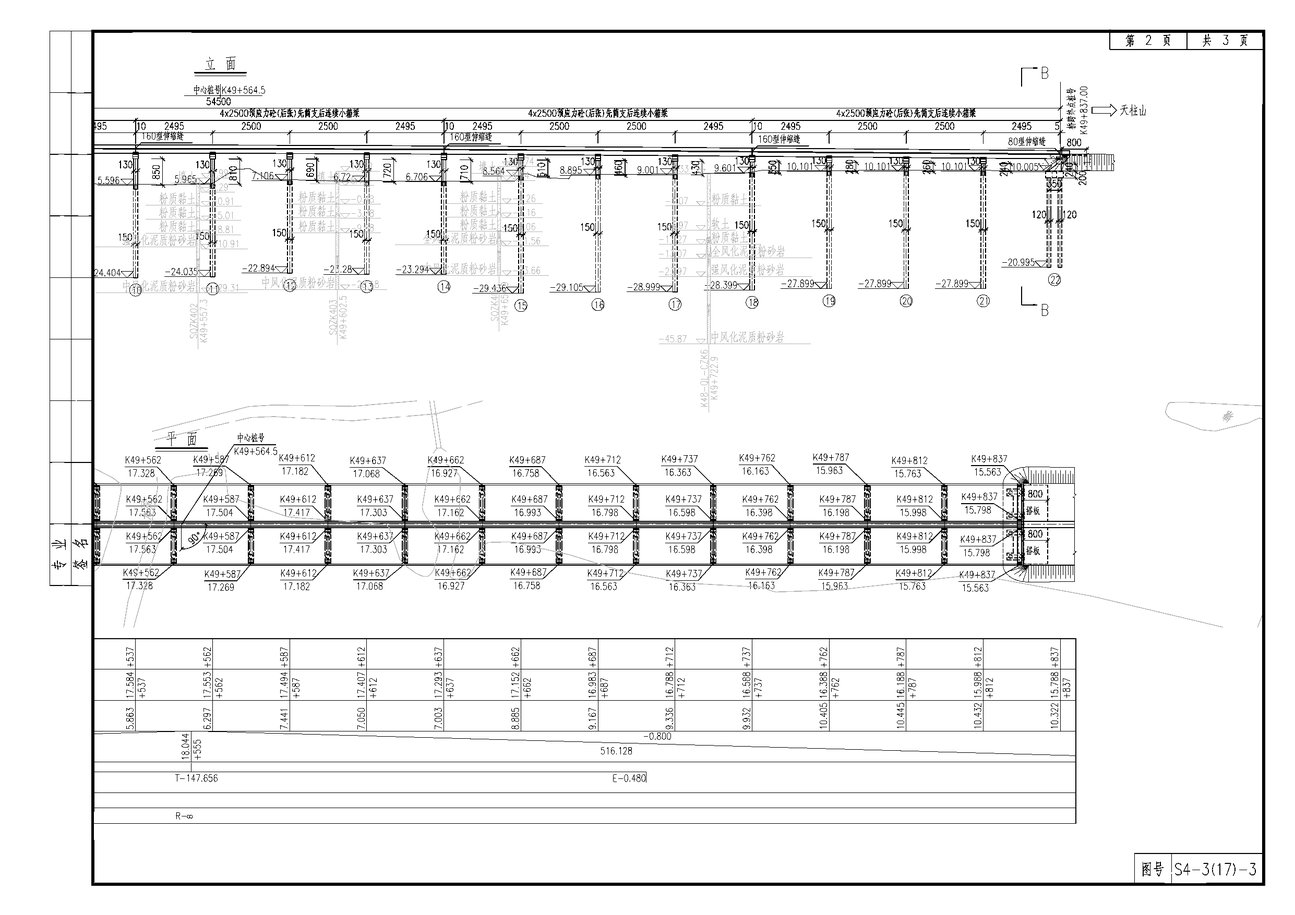A: (89, 51, 1155, 370)
